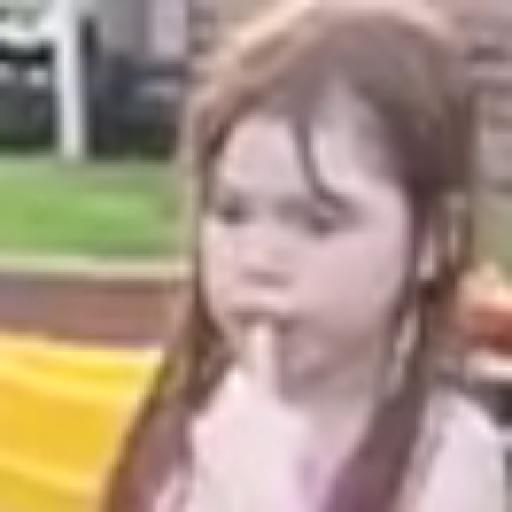Autism: (166, 1, 469, 447)
